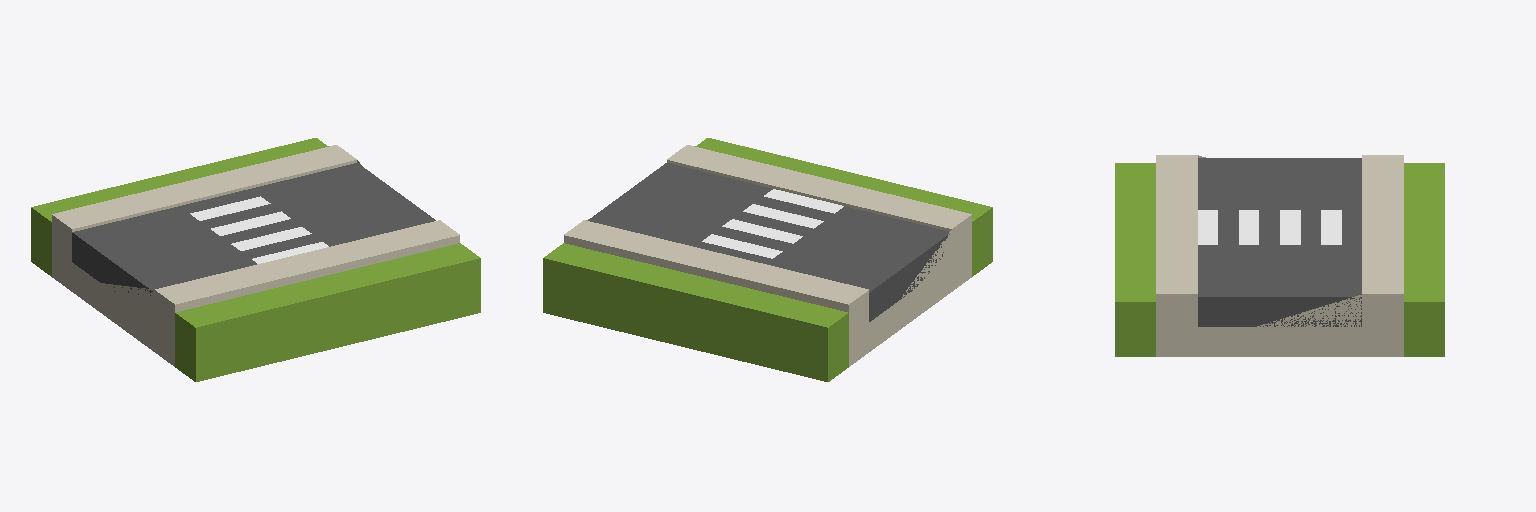
The model's file is roadTile_025.obj.
3 renders of one model, left to right at view 1: azimuth 30°, elevation 25°; view 2: azimuth 150°, elevation 25°; view 3: azimuth 270°, elevation 25°, orthographic.
Visible parts, largest first — view 1: Mesh1_Group1_Model; view 2: Mesh1_Group1_Model; view 3: Mesh1_Group1_Model.
Part boxes in pixels (x1,y1,x2,y2): Mesh1_Group1_Model: (31,138,480,381); Mesh1_Group1_Model: (543,138,992,381); Mesh1_Group1_Model: (1115,155,1444,356).
Size of the model in its own units: 1.08 by 0.2268 by 1.08.